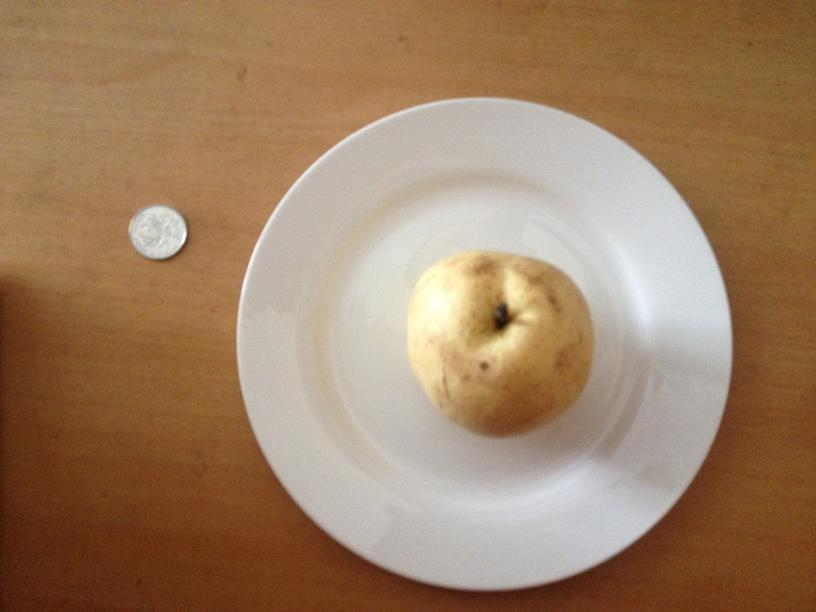coin: (126, 205, 189, 261)
pear: (408, 252, 594, 437)
